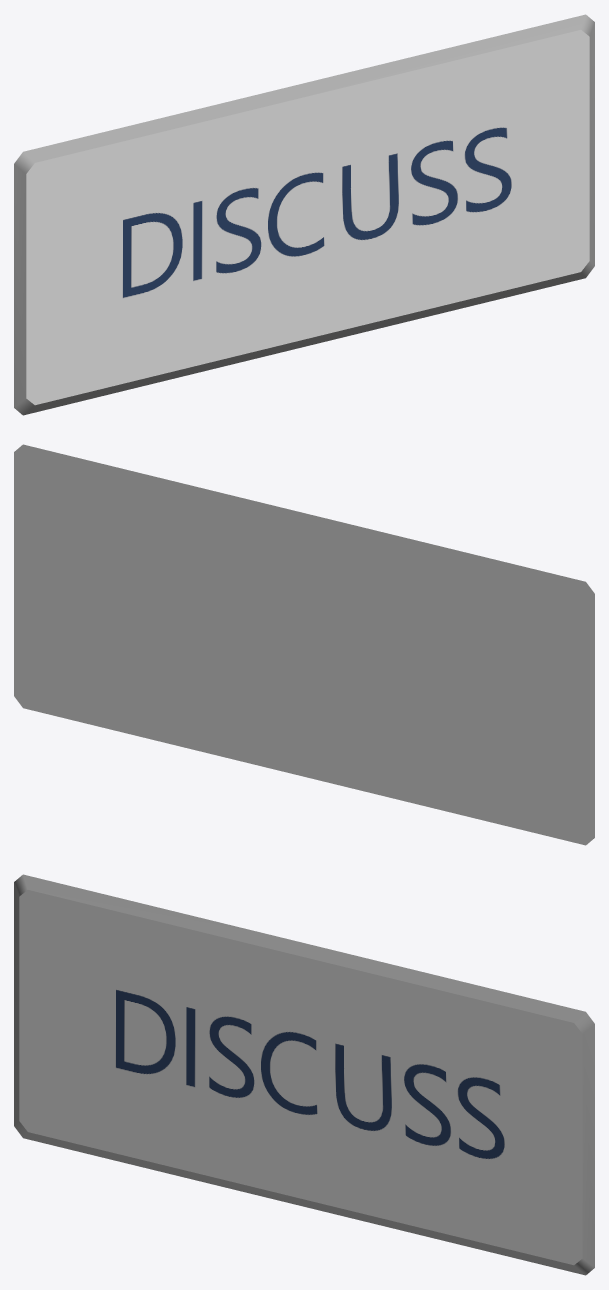
The model's file is Discuss.fbx.
3 renders of one model, top to bottom at view 1: azimuth 30°, elevation 25°; view 2: azimuth 150°, elevation 25°; view 3: azimuth 330°, elevation 25°, orthographic.
Visible parts, largest first — view 1: Discuss; view 2: Discuss; view 3: Discuss.
Boxes of the visible parts, x1,y1,x2,y2 form: Discuss: [14, 14, 594, 415]; Discuss: [14, 444, 594, 845]; Discuss: [14, 874, 594, 1275].
Bounding box in the file's own units: 1 × 0.4342 × 0.0104.
2 materials, 1 textured.
